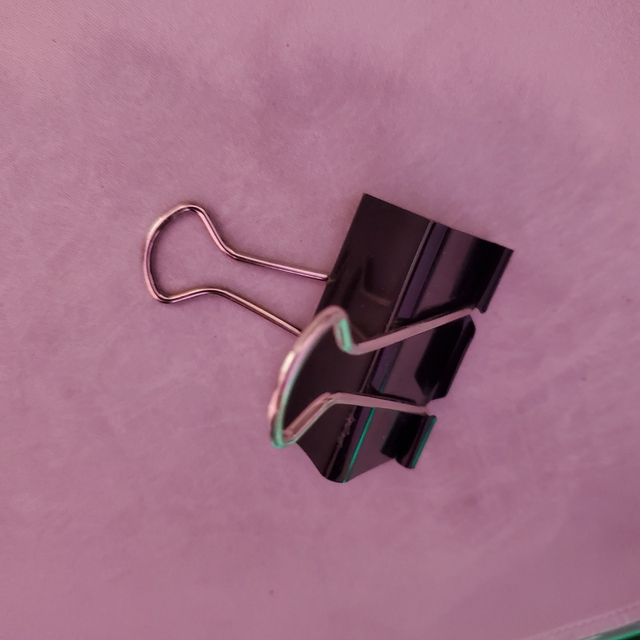clip: (126, 192, 526, 488)
